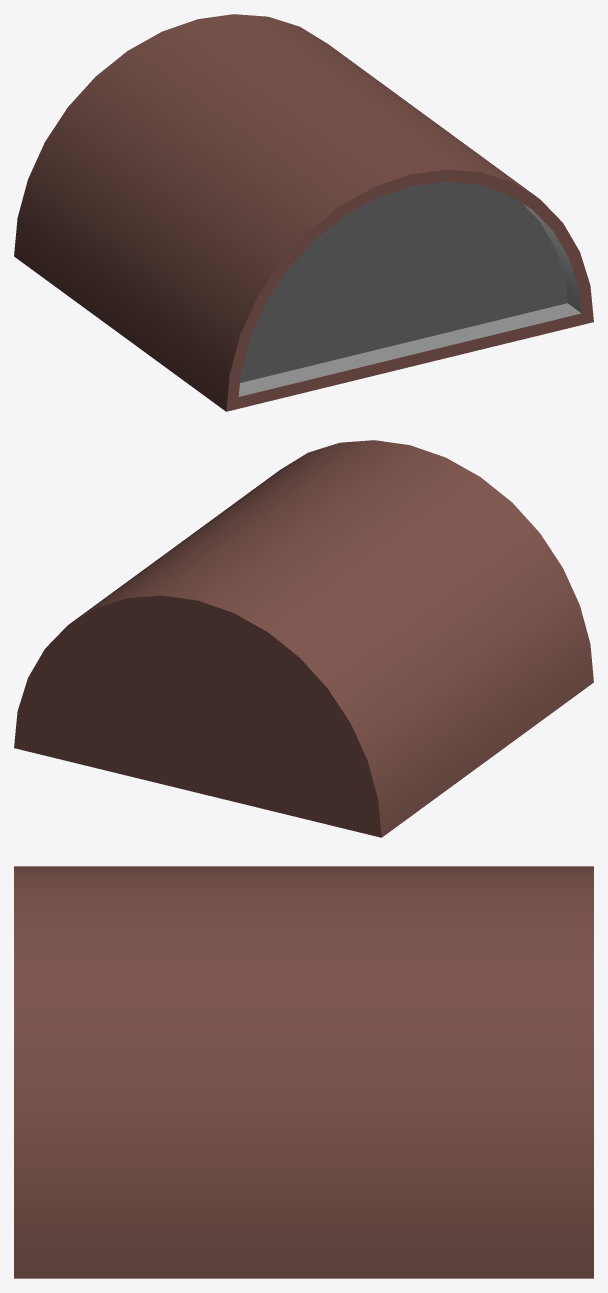
The model's file is tunel_de_barrera.fbx.
3 views of the same model, one above another, from view 1: azimuth 30°, elevation 25°; view 2: azimuth 150°, elevation 25°; view 3: azimuth 270°, elevation 25° (orthographic). The views are drawn at different scales.
Parts seen in each view (by area): view 1: Cylinder; view 2: Cylinder; view 3: Cylinder.
Part boxes in pixels (<box>): Cylinder: <box>14,14,593,411</box>; Cylinder: <box>14,440,593,837</box>; Cylinder: <box>14,866,593,1278</box>.
Bounding box in the file's own units: 200 × 100 × 200.
